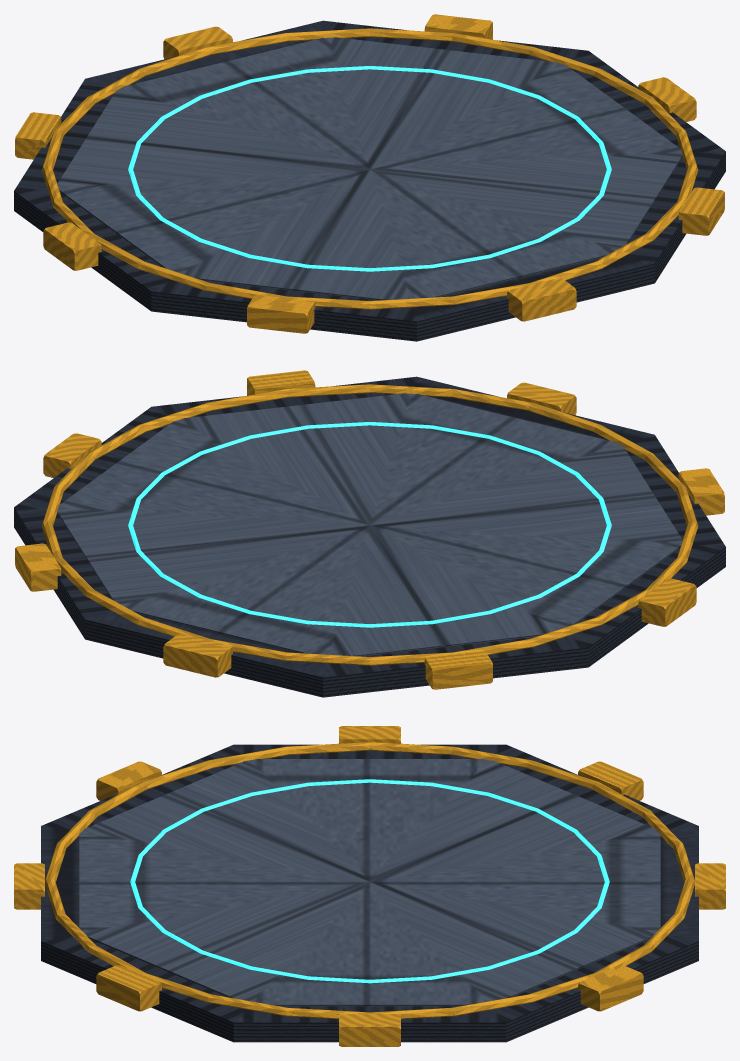
Rendered from hangar_platform.glb.
The picture shows the model from 3 angles, top to bottom: view 1: azimuth 30°, elevation 25°; view 2: azimuth 150°, elevation 25°; view 3: azimuth 270°, elevation 25°; orthographic projection.
Parts seen in each view (by area): view 1: hangar_platform; view 2: hangar_platform; view 3: hangar_platform.
Boxes of the visible parts, left/top/right/bottom form: hangar_platform: left=14, top=14, right=725, bottom=341; hangar_platform: left=14, top=370, right=725, bottom=697; hangar_platform: left=14, top=726, right=725, bottom=1046.
Bounding box in the file's own units: 27.6 × 1.15 × 27.6.
1 material, 1 textured.
